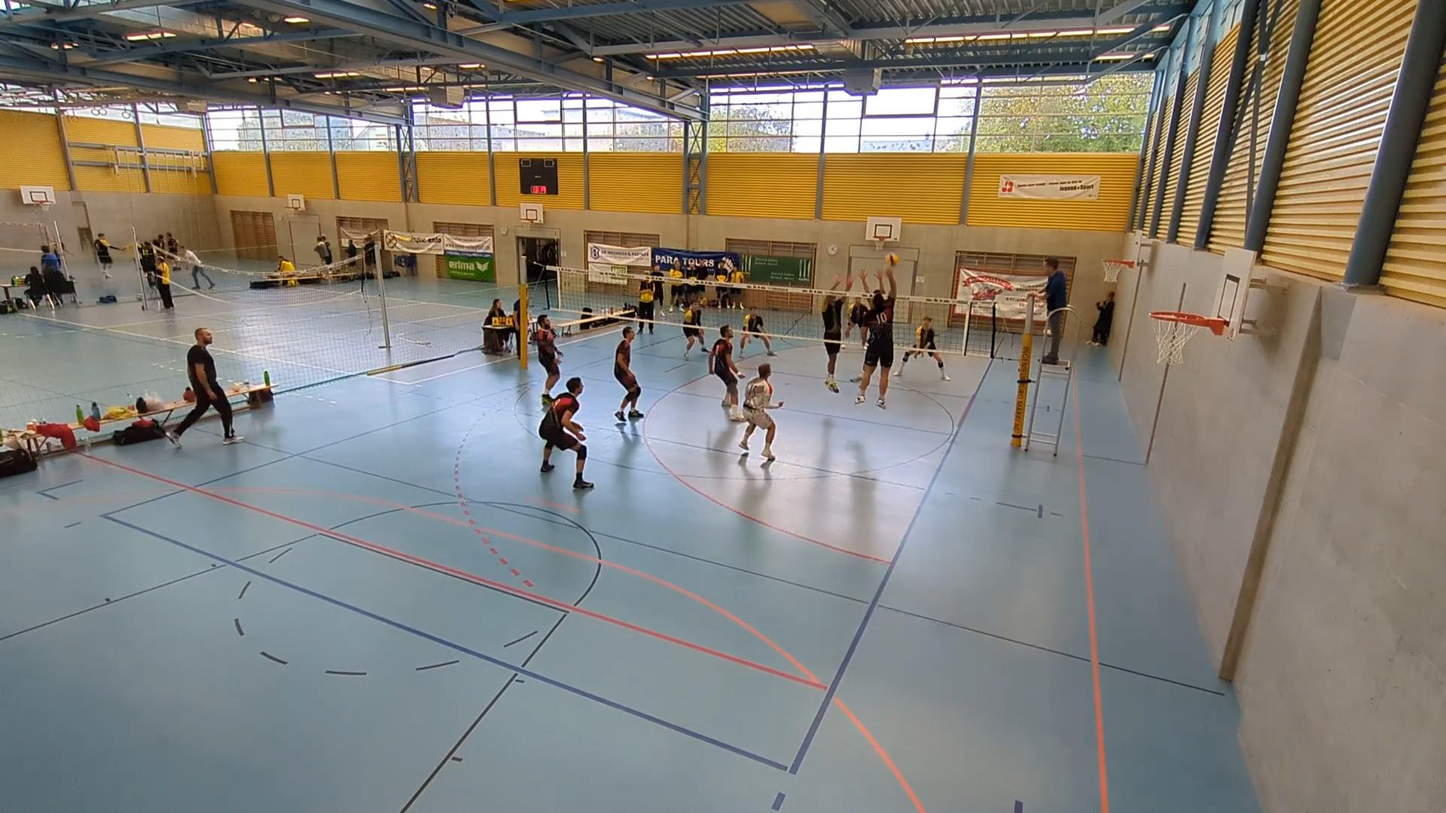attacco: (855, 270, 906, 404)
muro: (856, 270, 906, 414), (822, 269, 854, 401), (857, 263, 890, 308)
